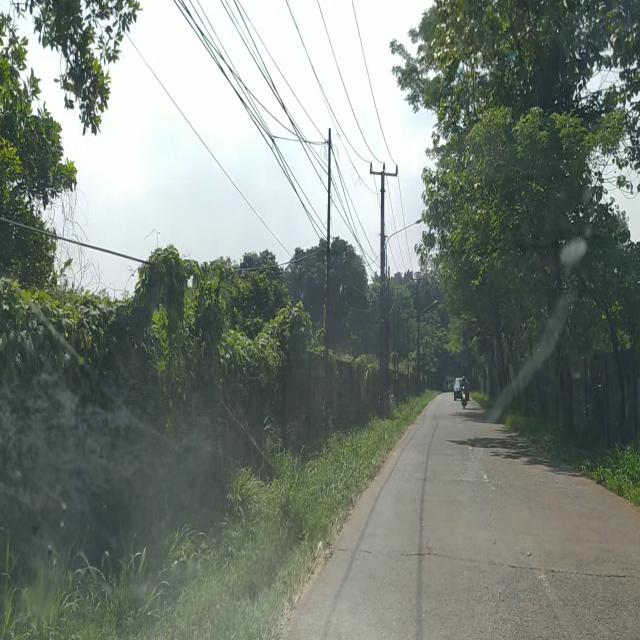Sewer Cover: (338, 546, 640, 580)
